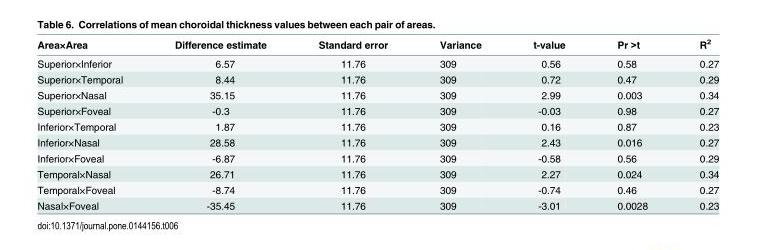table: (36, 36, 718, 210)
table column: (148, 36, 291, 210), (291, 36, 413, 210), (36, 36, 148, 210), (413, 36, 506, 210), (506, 36, 590, 210), (590, 36, 672, 210), (672, 36, 718, 210)
table column header: (36, 36, 718, 53)
table row: (36, 53, 718, 71), (36, 36, 718, 53), (36, 86, 718, 102), (36, 102, 718, 118), (36, 118, 718, 134), (36, 149, 718, 165), (36, 165, 718, 181), (36, 181, 718, 197), (36, 71, 718, 86), (36, 134, 718, 149), (36, 197, 718, 210)
